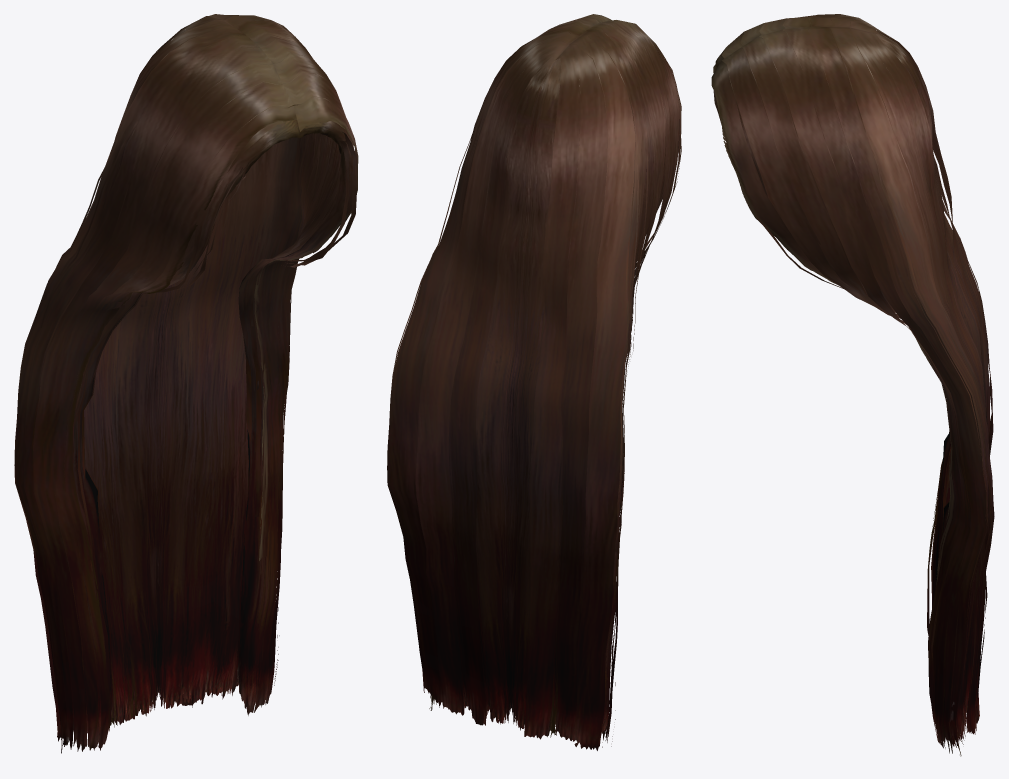
The model's file is mh_long01.glb.
3 renders of one model, left to right at view 1: azimuth 30°, elevation 25°; view 2: azimuth 150°, elevation 25°; view 3: azimuth 270°, elevation 25°, orthographic. The views are drawn at different scales.
Parts seen in each view (by area): view 1: mh_long01; view 2: mh_long01; view 3: mh_long01.
Part boxes in pixels (x1,y1,x2,y2): mh_long01: (14, 14, 358, 753); mh_long01: (387, 14, 681, 750); mh_long01: (711, 14, 994, 756).
Size of the model in its own units: 0.2905 by 0.7869 by 0.2876.
1 material, 1 textured.
